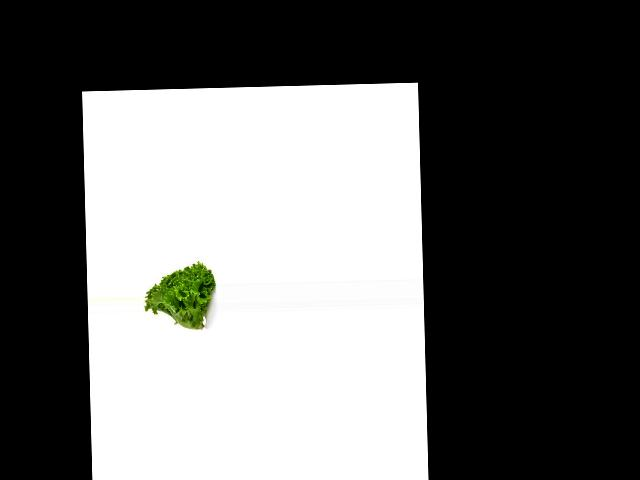lettuce: (141, 257, 216, 335)
